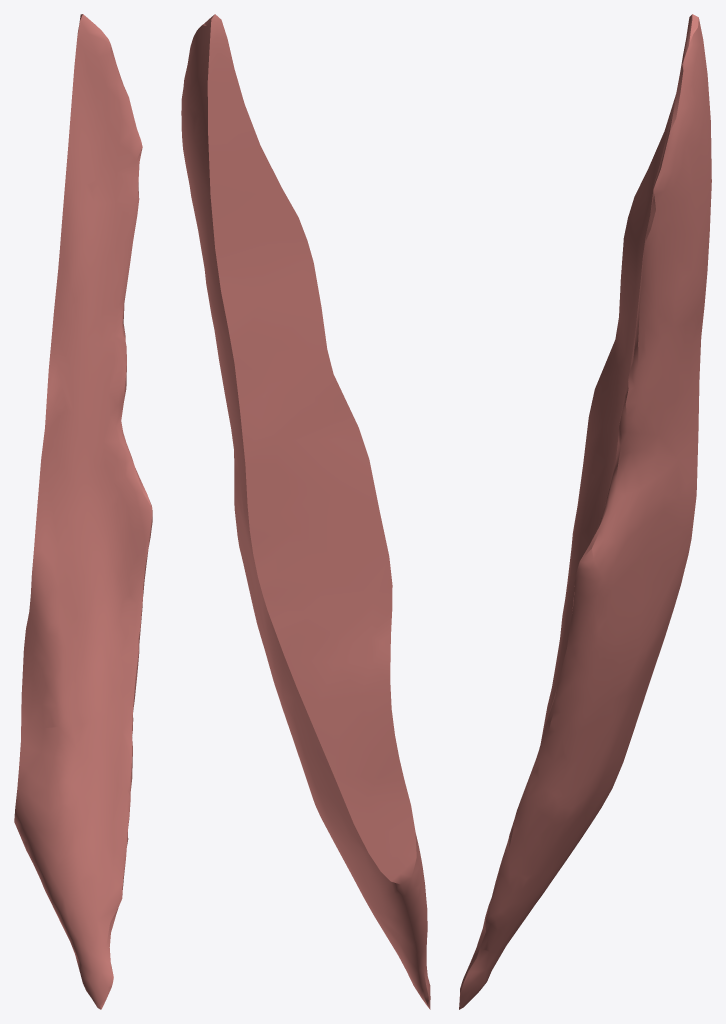
The model's file is fma38728-f_mm1818.glb.
3 renders of one model, left to right at view 1: azimuth 30°, elevation 25°; view 2: azimuth 150°, elevation 25°; view 3: azimuth 270°, elevation 25°, orthographic. The views are drawn at different scales.
Parts seen in each view (by area): view 1: FMA38728-F_MM1818; view 2: FMA38728-F_MM1818; view 3: FMA38728-F_MM1818.
Boxes of the visible parts, box(x1,y1,x2,y2) form: FMA38728-F_MM1818: box(14, 14, 152, 1009); FMA38728-F_MM1818: box(181, 14, 430, 1009); FMA38728-F_MM1818: box(459, 14, 711, 1009).
Size of the model in its own units: 0.0134 by 0.0708 by 0.0156.
